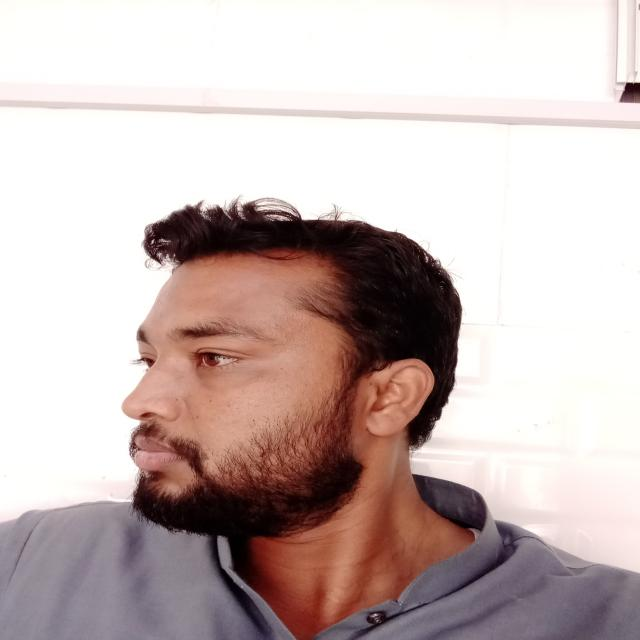Acne: (269, 312, 306, 336)
Blackheads: (245, 402, 267, 411), (191, 413, 202, 422), (226, 403, 235, 410), (266, 408, 272, 415), (281, 398, 283, 404)
Eyebags: (192, 361, 266, 393)
